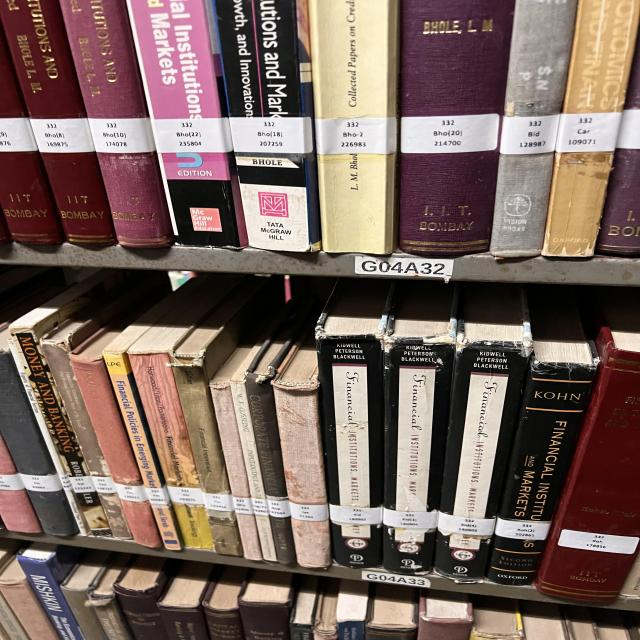Book: (487, 286, 598, 585), (535, 289, 640, 601), (172, 278, 282, 556), (127, 0, 247, 249), (433, 284, 532, 582), (400, 0, 515, 255), (128, 276, 235, 549), (8, 270, 118, 532), (60, 0, 175, 248), (217, 0, 320, 251), (542, 0, 640, 256), (308, 0, 398, 254), (490, 0, 577, 258), (102, 290, 187, 550), (383, 281, 457, 575), (70, 331, 163, 548), (42, 319, 132, 539), (245, 299, 313, 564), (0, 350, 78, 536), (320, 336, 382, 568), (272, 334, 332, 568), (0, 29, 65, 244), (210, 345, 262, 561), (595, 34, 640, 255), (230, 365, 277, 561), (17, 542, 85, 640), (0, 559, 60, 640), (60, 550, 112, 640), (113, 555, 168, 640), (158, 561, 213, 640), (0, 435, 42, 532), (85, 554, 132, 640), (238, 569, 293, 640), (203, 566, 247, 640), (365, 584, 418, 640), (417, 590, 473, 640), (337, 580, 368, 640), (290, 576, 318, 640), (313, 579, 338, 640)
Label: (402, 114, 500, 154), (230, 116, 313, 154), (315, 118, 397, 155), (152, 118, 233, 152), (555, 112, 622, 152), (500, 114, 560, 155), (88, 118, 155, 154), (30, 118, 95, 152), (558, 529, 640, 554), (438, 511, 495, 536), (0, 118, 38, 152), (495, 518, 550, 540), (383, 508, 438, 529), (328, 504, 383, 525), (617, 109, 640, 149), (20, 474, 63, 492), (290, 501, 328, 521), (167, 486, 203, 505), (115, 482, 148, 502), (203, 492, 233, 511), (68, 476, 97, 492), (92, 476, 117, 494), (267, 499, 290, 518), (232, 496, 255, 515), (147, 486, 170, 505), (0, 474, 25, 490), (252, 498, 268, 516)
